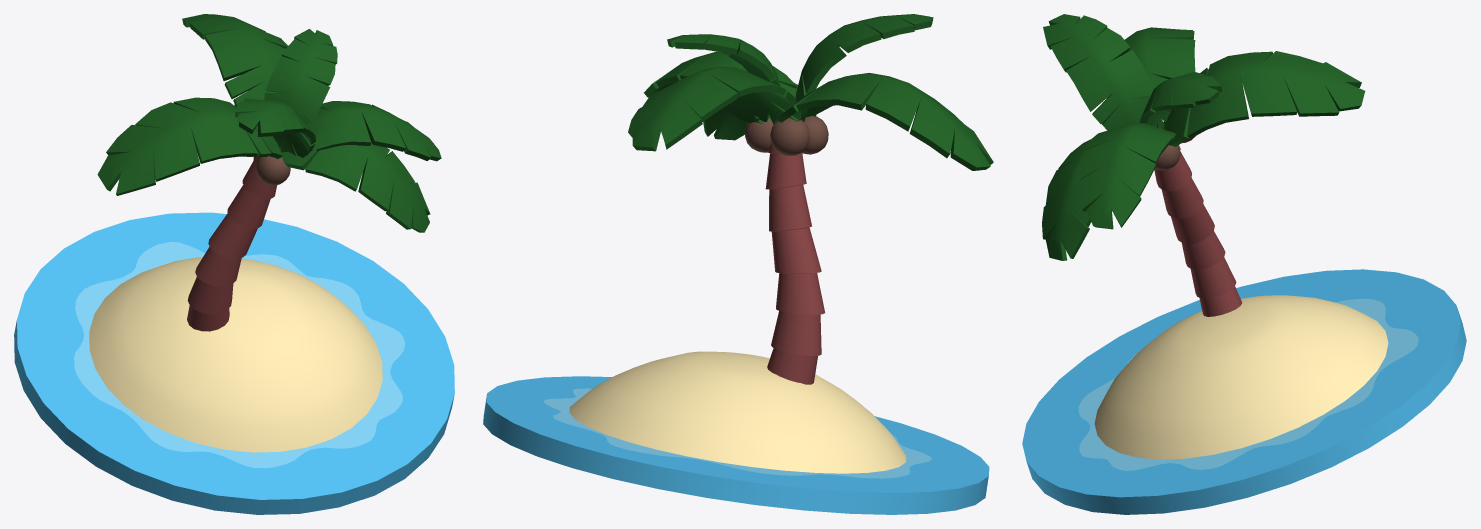
File: desert_island.glb
3 renders of one model, left to right at view 1: azimuth 30°, elevation 25°; view 2: azimuth 150°, elevation 25°; view 3: azimuth 270°, elevation 25°, orthographic. The views are drawn at different scales.
Parts seen in each view (by area): view 1: Circle.2336; view 2: Circle.2336; view 3: Circle.2336.
Boxes of the visible parts, bbox=[...] form: Circle.2336: bbox=[14, 14, 454, 514]; Circle.2336: bbox=[483, 14, 993, 514]; Circle.2336: bbox=[1022, 14, 1466, 514].
Bounding box in the file's own units: 2.12 × 2.08 × 2.05.
Materials: 1 (1 with a texture image).
